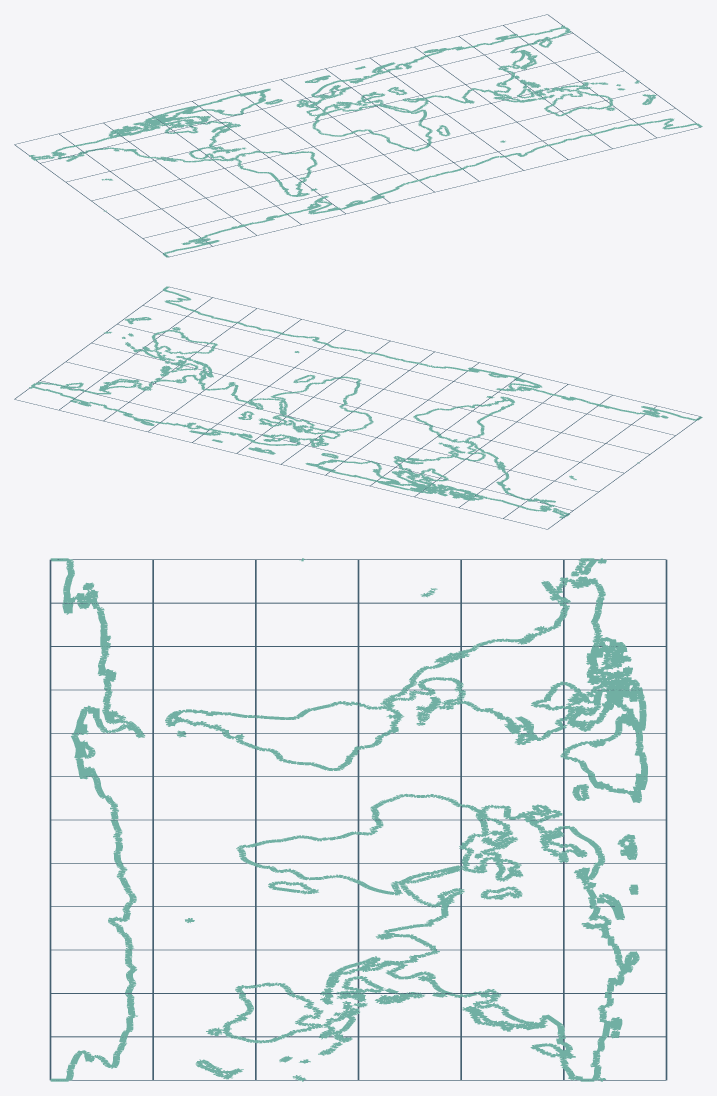
File: gis-world-land.glb
3 views of the same model, one above another, from view 1: azimuth 30°, elevation 25°; view 2: azimuth 150°, elevation 25°; view 3: azimuth 270°, elevation 25° (orthographic). The views are drawn at different scales.
Size of the model in its own units: 362 by 0 by 180.
